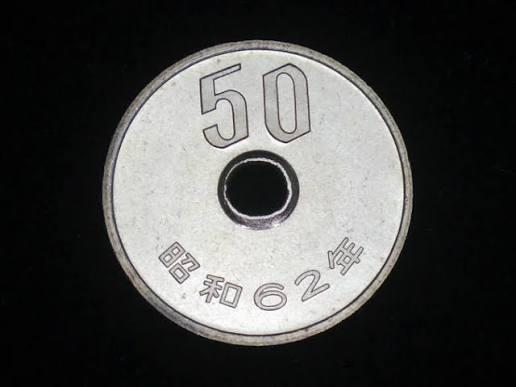year: (160, 229, 371, 332)
